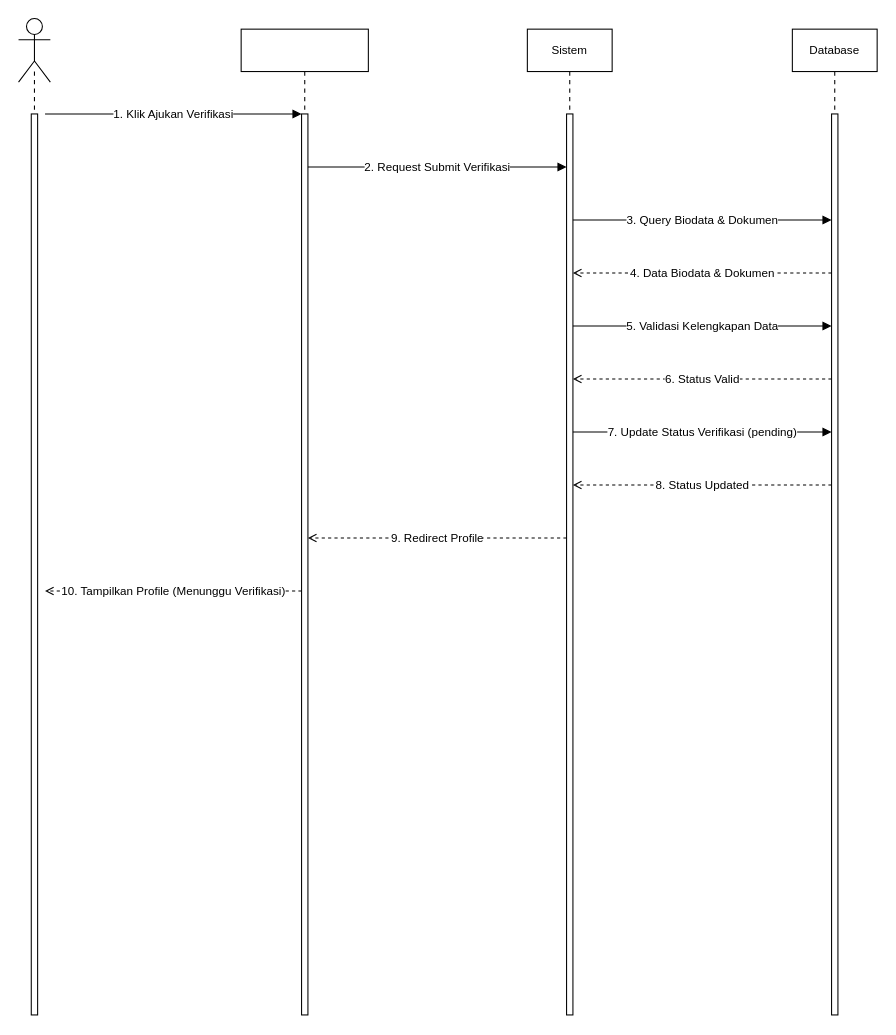
Some shapes in this 896 by 1035 pixel diagram are drawn without their labels. The shapes that lost their labels are listed below. From the top down, each one's box as (x1, y1, x2, y2) in pixels, then its label:
(17, 17, 50, 82): User
(240, 28, 368, 72): Halaman Biodata
